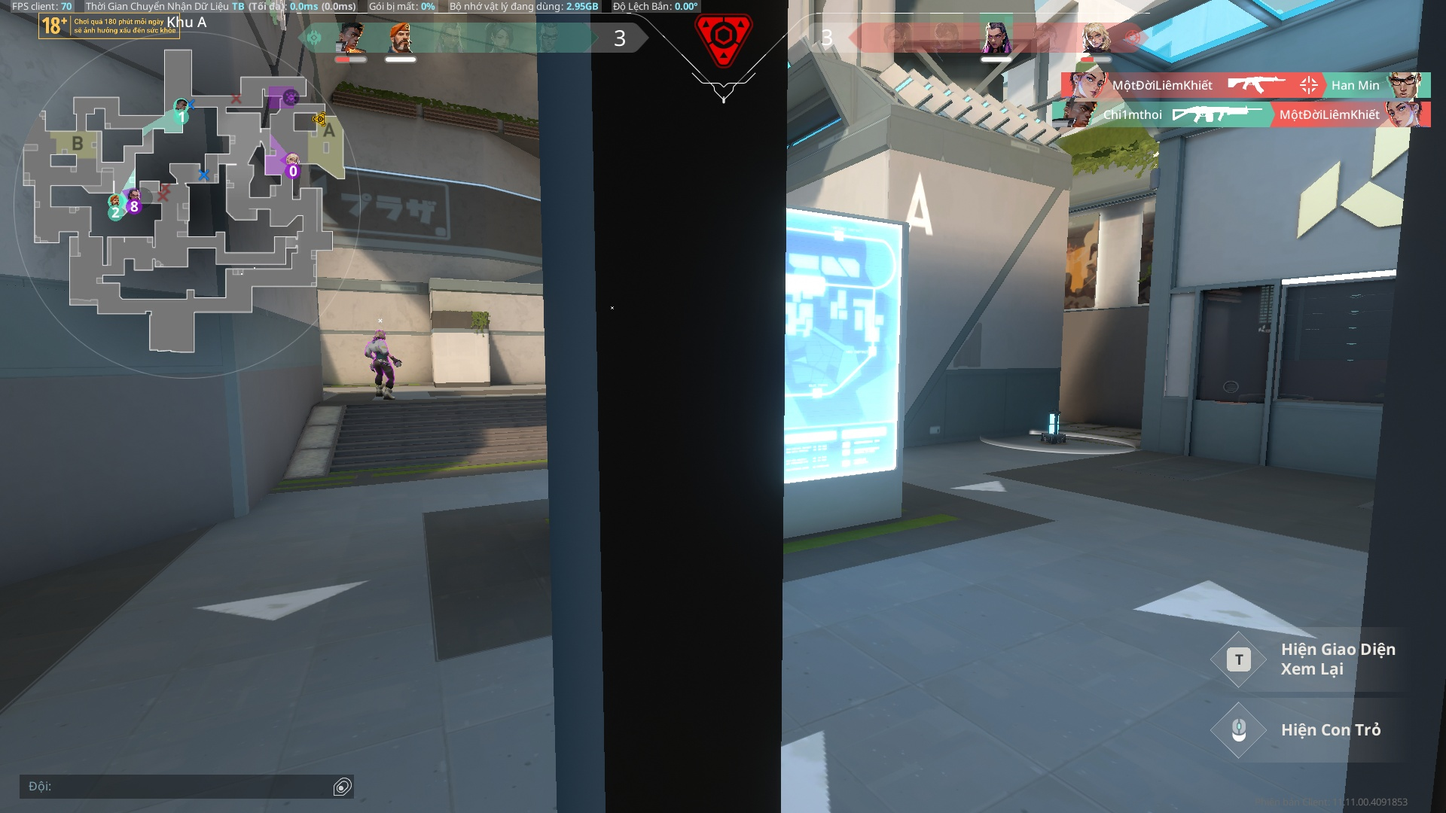body: (370, 338, 389, 358)
head: (374, 329, 386, 340)
